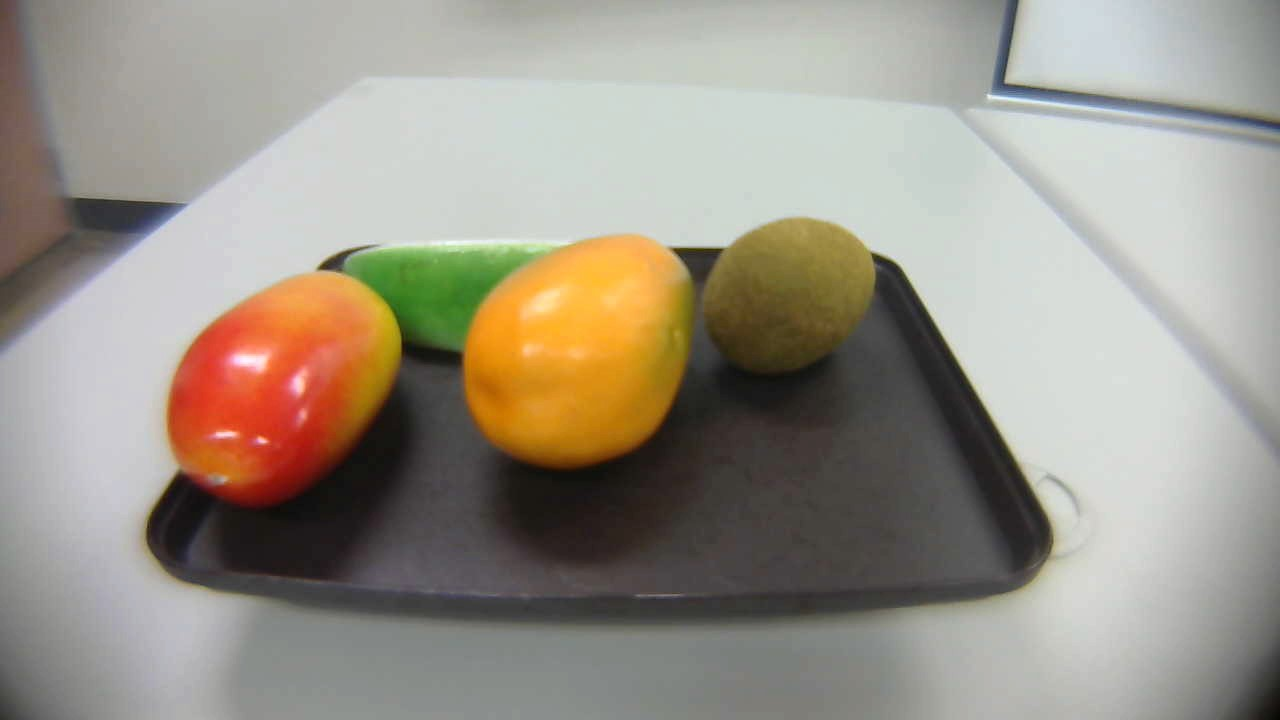kiwi fruit: (696, 219, 875, 377)
papya: (464, 235, 701, 474)
red mango: (164, 269, 401, 530)
water melon: (339, 242, 570, 355)
